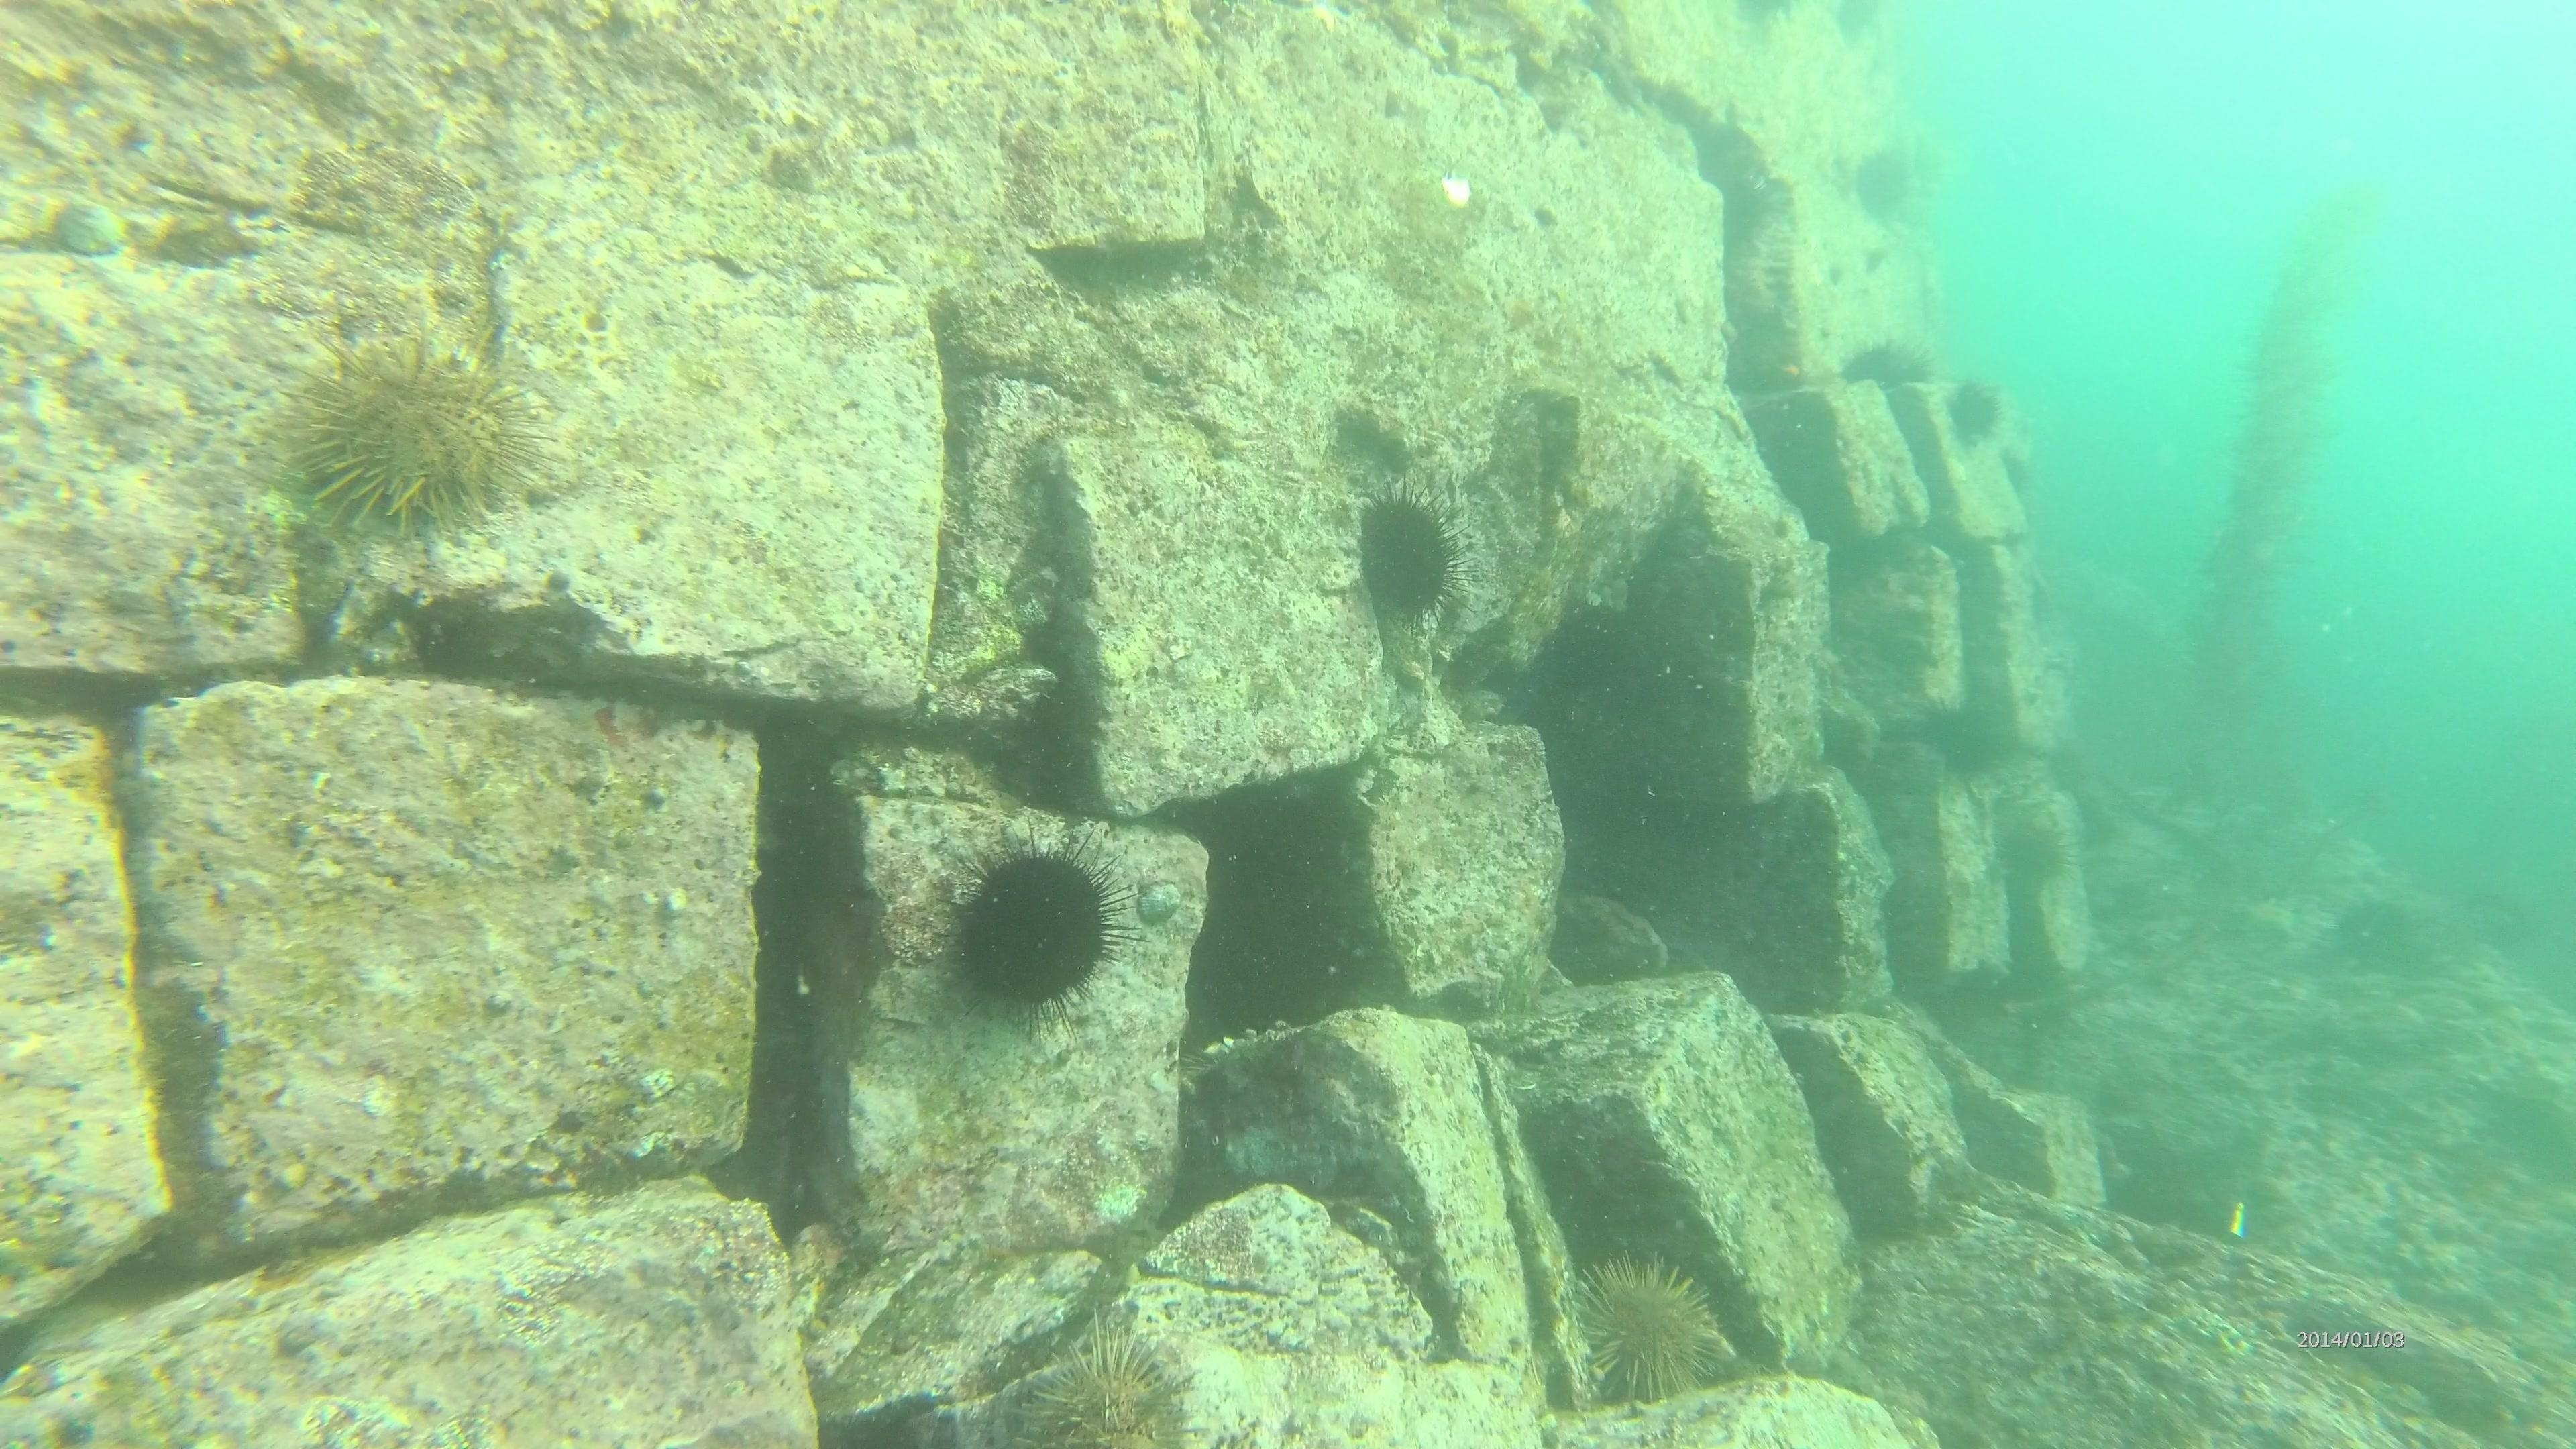echinus: (287, 340, 545, 541), (934, 833, 1132, 1024), (1566, 1249, 1734, 1410), (1010, 1329, 1203, 1440), (1346, 485, 1468, 633), (2325, 890, 2434, 982), (1844, 138, 1923, 228), (1838, 333, 1936, 403), (1941, 372, 2006, 451)
